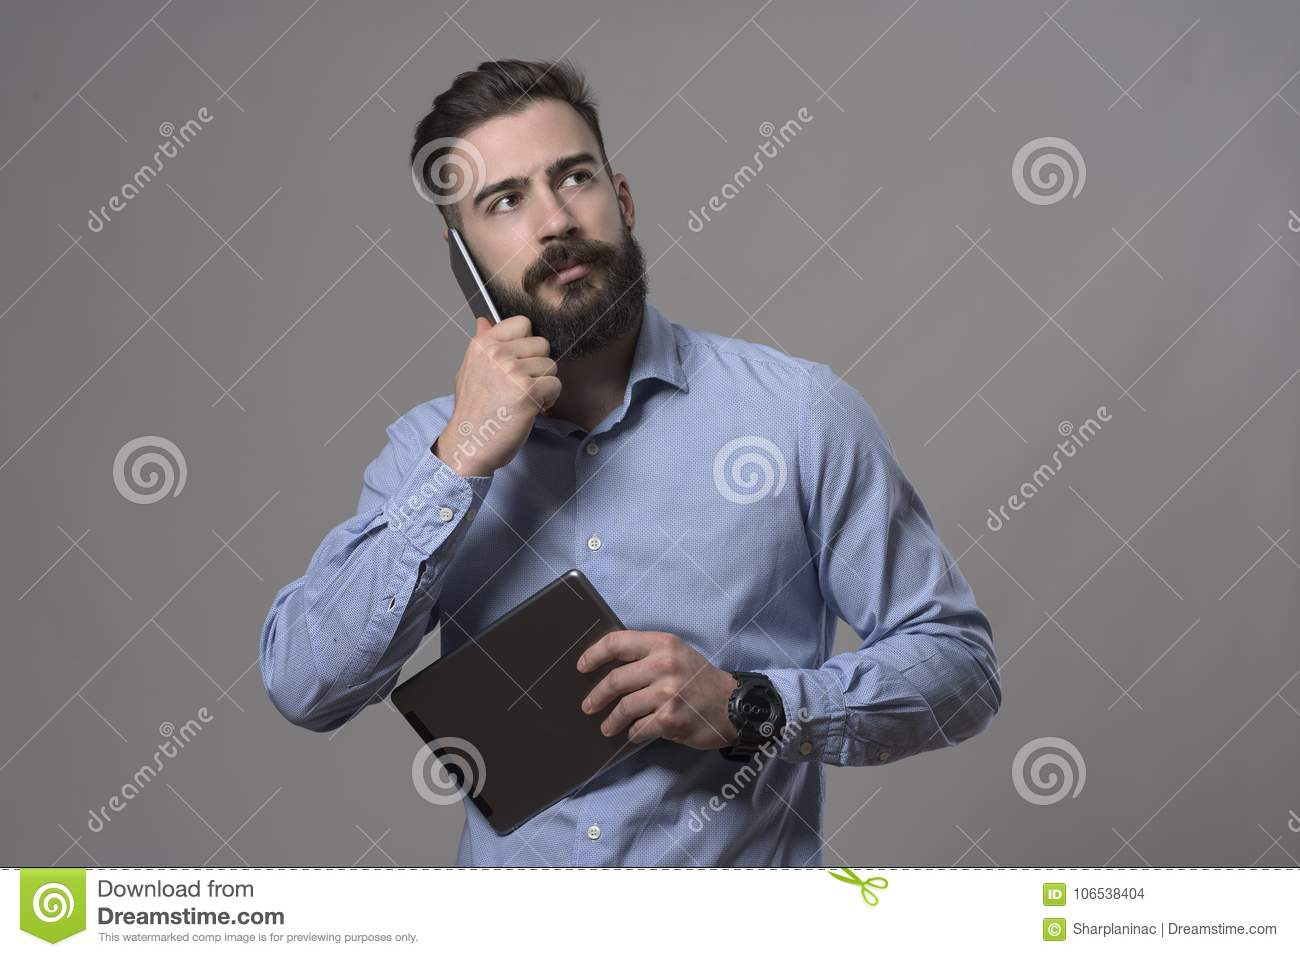phone: (443, 232, 505, 353)
talk: (426, 153, 624, 471)
